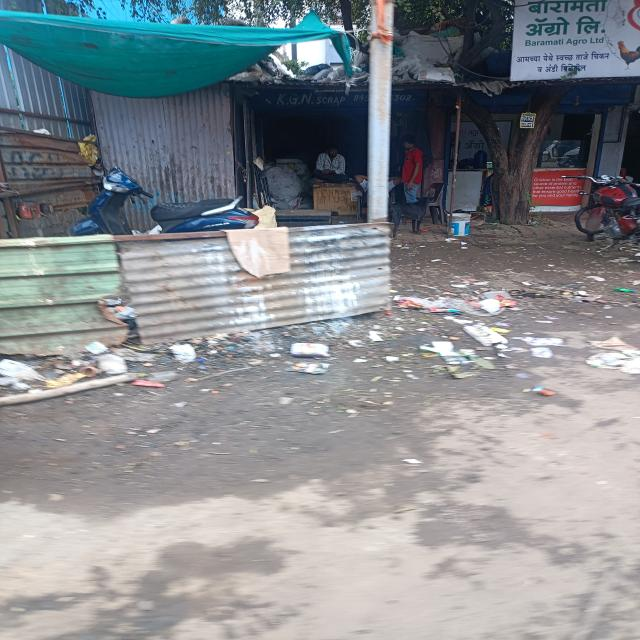garbage: (402, 284, 533, 369), (0, 341, 195, 393)
